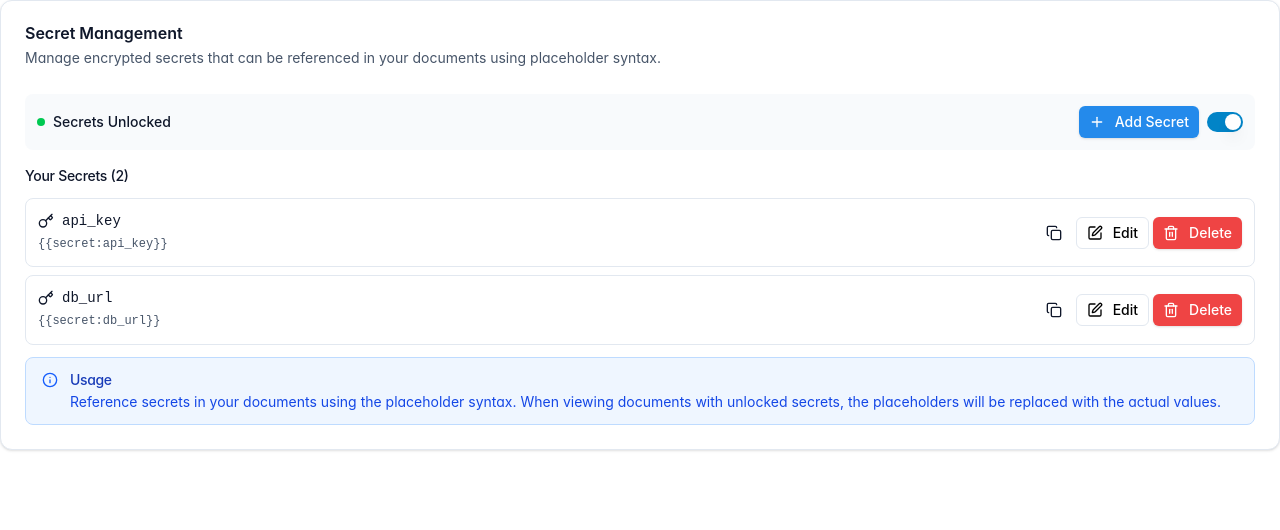
Test: SecretManager › logs a lock failure and shows the store error
Expected: the heading "Your Secrets (2)" is shown, [25, 166, 129, 186]
Click the switch at {"x": 1225, "y": 122}, box [1207, 112, 1243, 132]
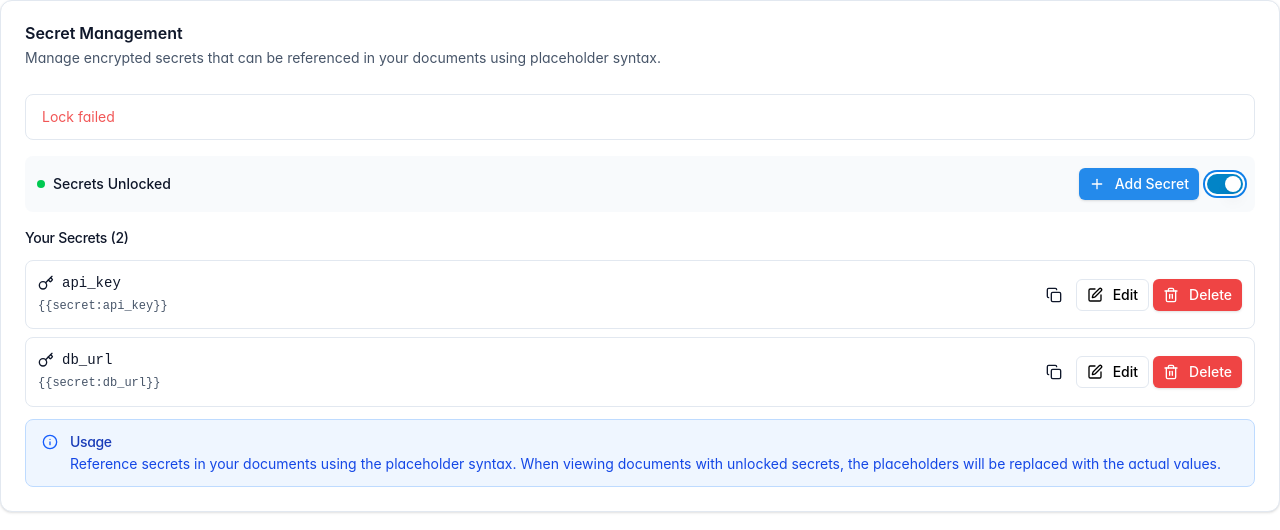
Now the text "Lock failed" is shown, box [42, 108, 115, 125]
